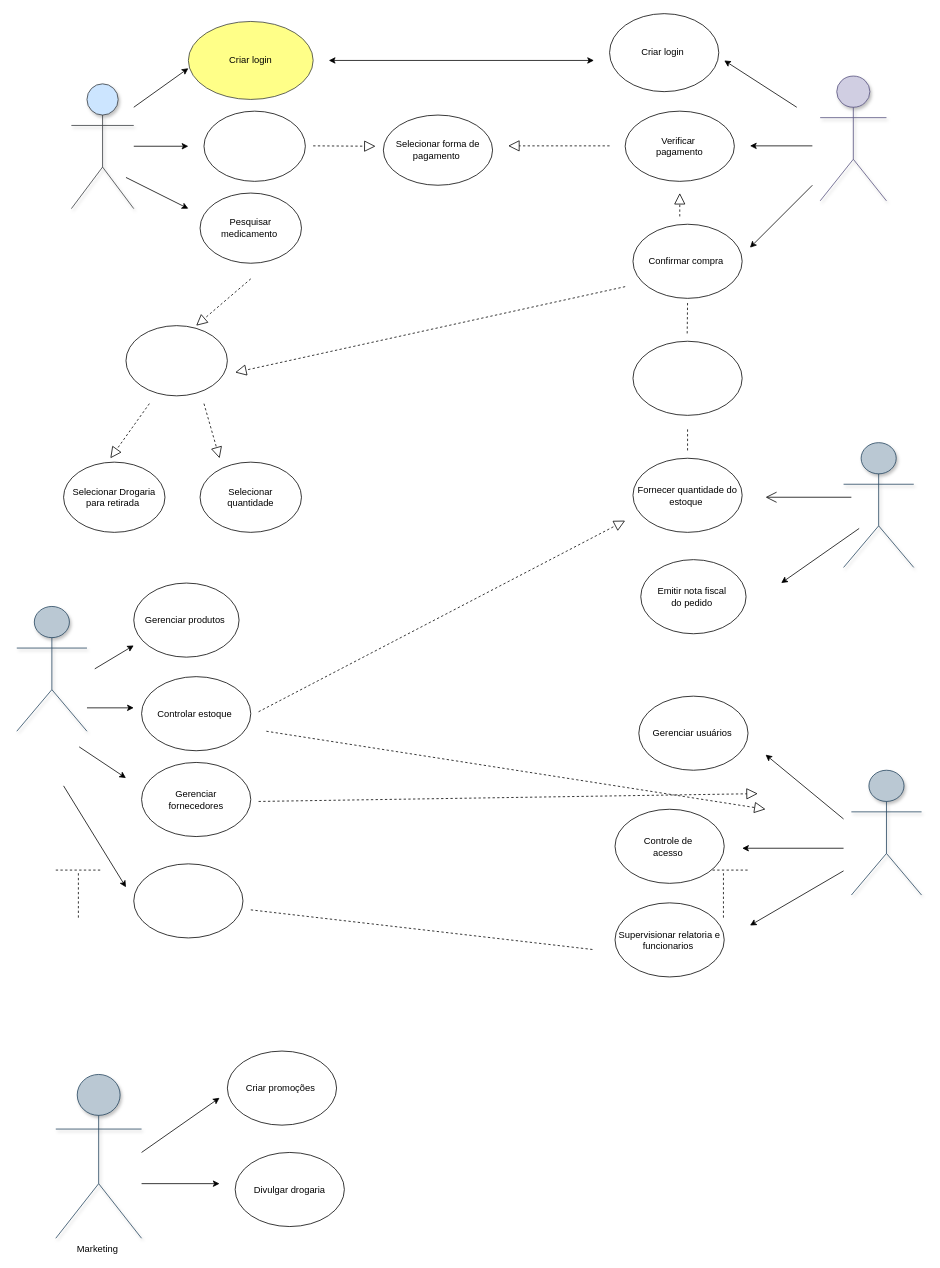
Image size: 940x1268. Some labels were removed from this diagram. Each missing label, with the centre of its shape:
Administrador: the point at 886,833
Cliente: the point at 102,147
Comprar medicamento: the point at 176,360
Consultar Estoque: the point at 687,377
Criar relatórios: the point at 188,900
Farmaceutico: the point at 853,139
Gerente: the point at 52,670
Realizar pagamento: the point at 254,145
Sistema: the point at 879,506
